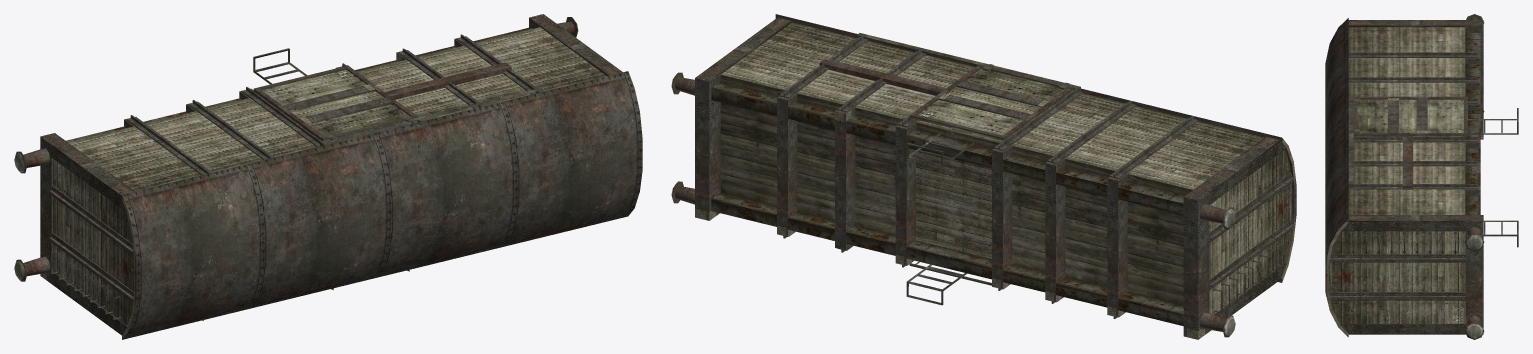
File: prop_traincar01.glb
3 views of the same model, side by side, from view 1: azimuth 30°, elevation 25°; view 2: azimuth 150°, elevation 25°; view 3: azimuth 270°, elevation 25° (orthographic). The views are drawn at different scales.
Bounding box in the file's own units: 406 × 107 × 150.
1 material, 1 textured.
